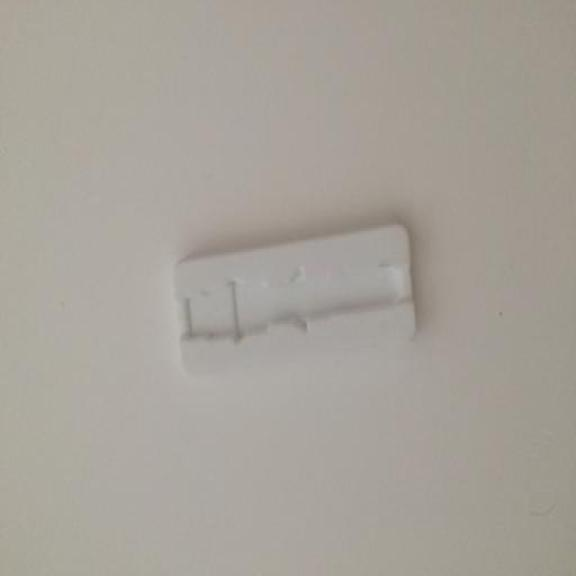Plastik: (167, 216, 420, 380)
